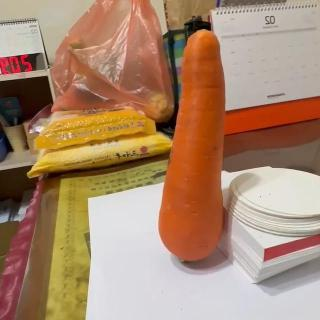carrot: (156, 28, 232, 264)
